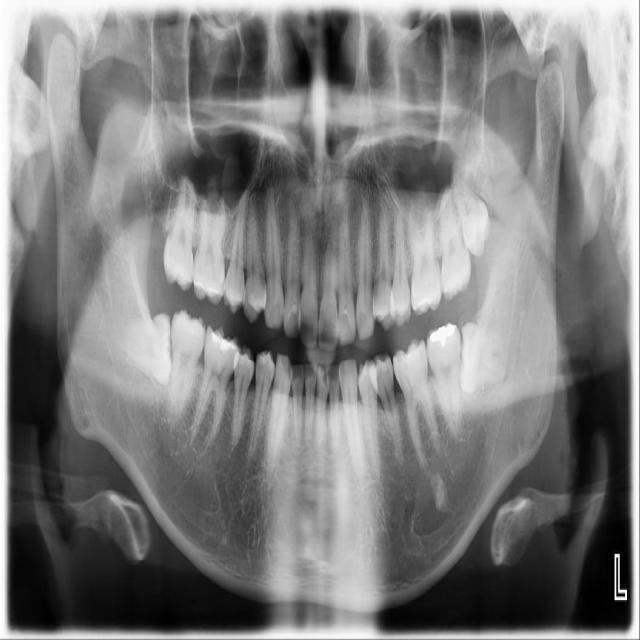52: (191, 321, 249, 379), (423, 321, 467, 376)
73: (562, 566, 568, 579)
BioHorizons Implant: (439, 186, 472, 302)
BioLife Implant: (446, 154, 497, 260)
Biomet 3i Implant: (457, 322, 507, 396)
Blue Sky Bio Implant: (426, 322, 461, 440)
Caries: (162, 168, 198, 292)
Implant: (166, 308, 207, 427)
Keystone Dental Implant: (118, 312, 176, 389)
